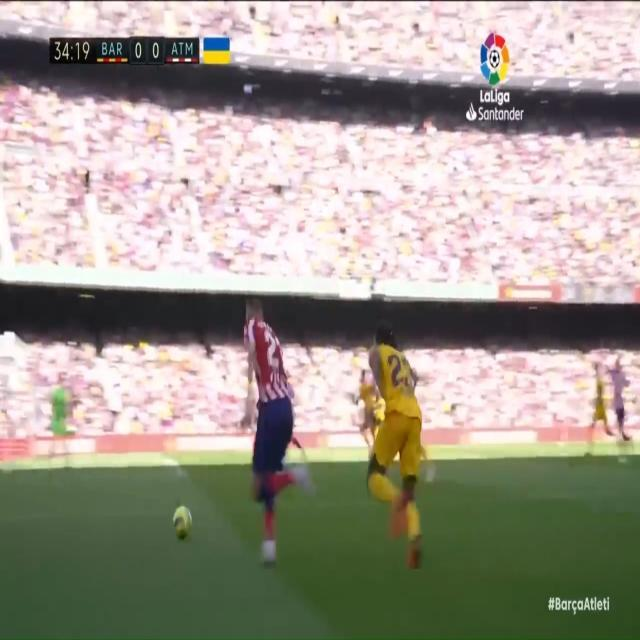ball: (166, 493, 197, 546)
goalkeeper: (47, 364, 75, 485)
player: (234, 279, 314, 572), (351, 305, 434, 580), (579, 350, 613, 468), (608, 339, 636, 466)
